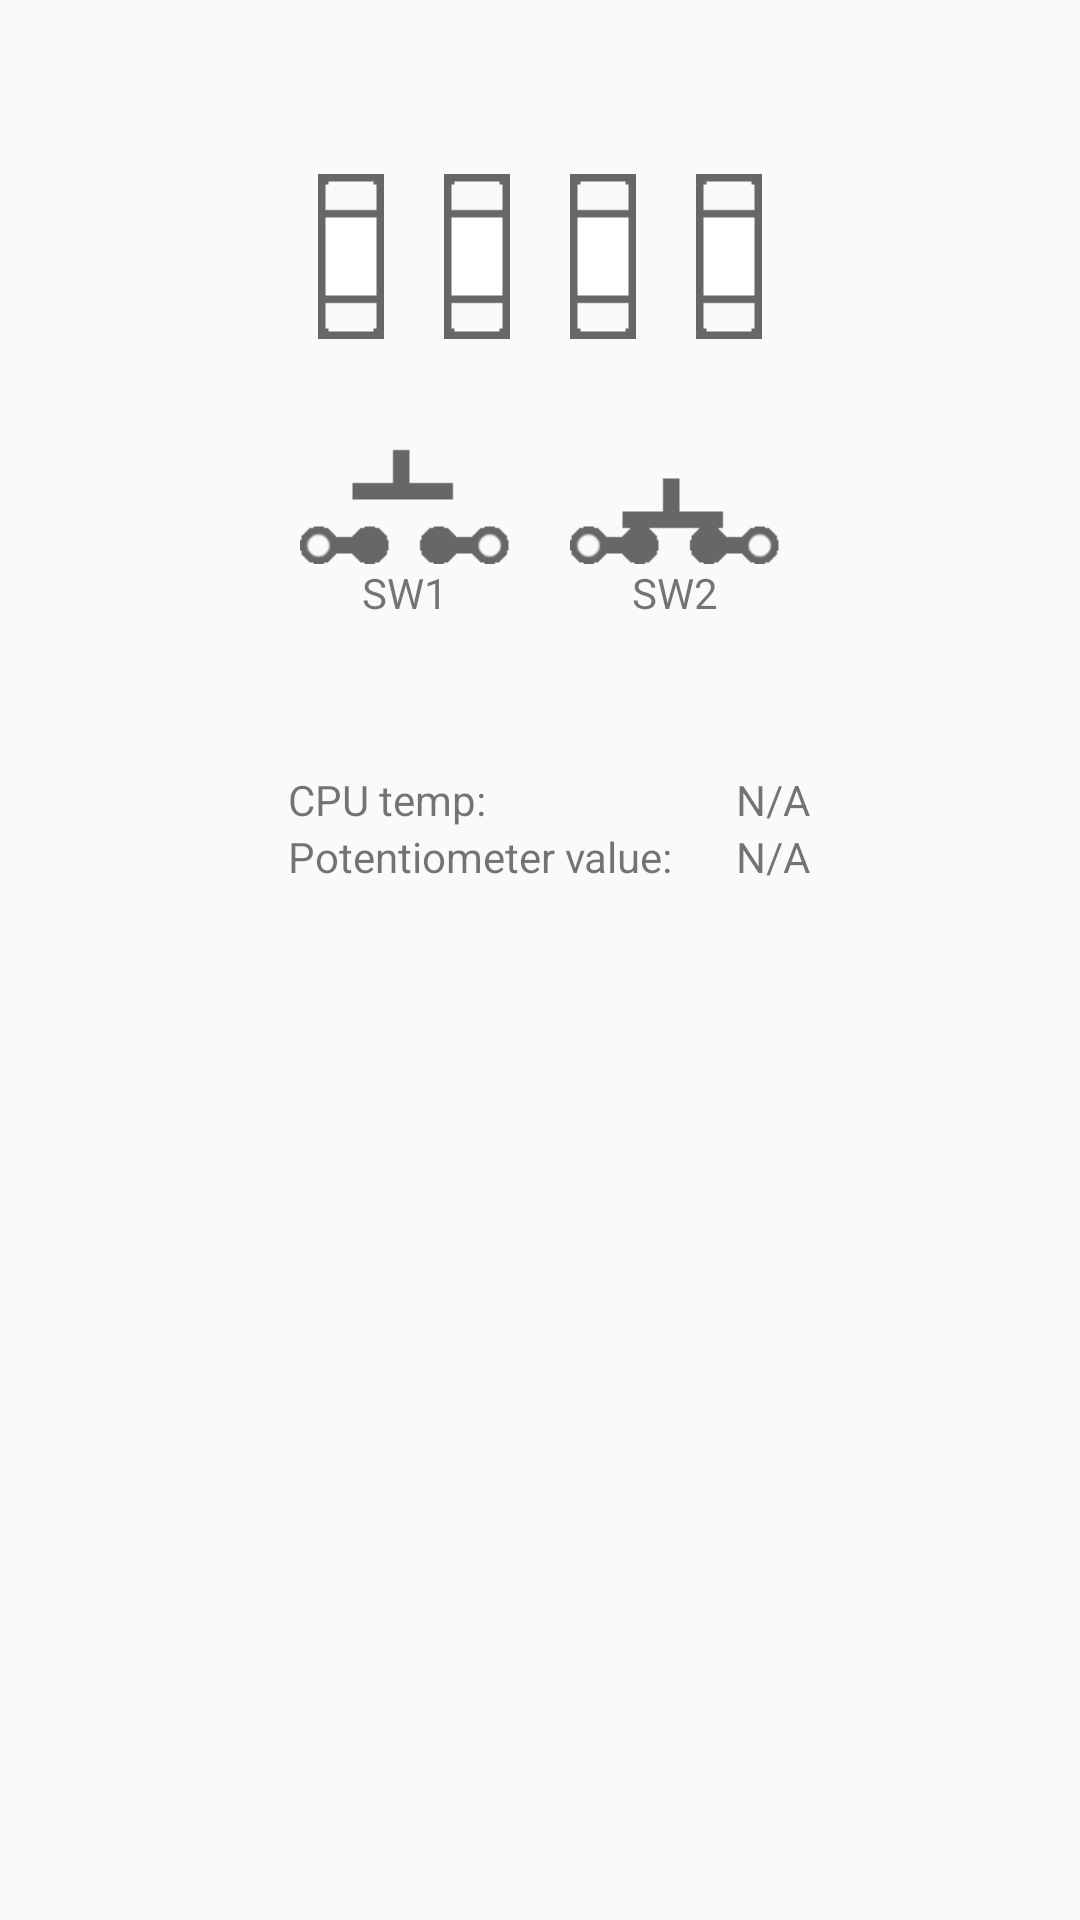

Icon click points for this 1080x1920 phone screenshot, format (x=x, y=y):
led off: (x=351, y=256), (x=477, y=256), (x=603, y=256), (x=729, y=256)
off: (x=404, y=506)
